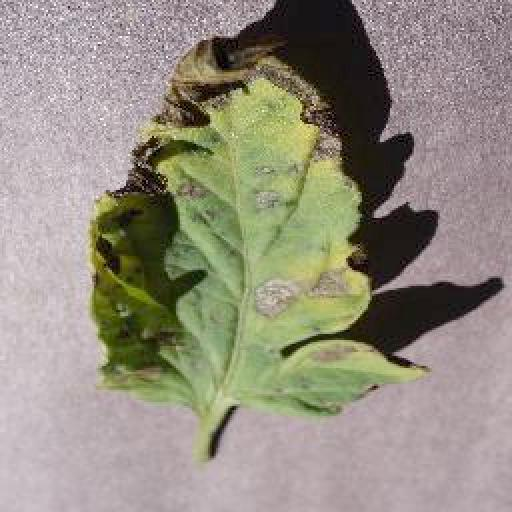disease_tomato: (96, 34, 434, 416)
